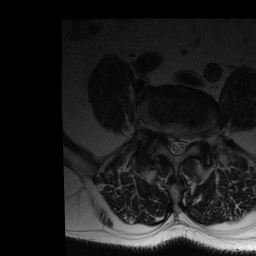CCS_normal: (174, 131, 180, 160)
LFS_stenosis: (189, 127, 197, 150)
LLS_normal: (181, 131, 189, 156)
RFS_severe_stenosis: (158, 125, 167, 147)
RLS_normal: (167, 130, 174, 154)
